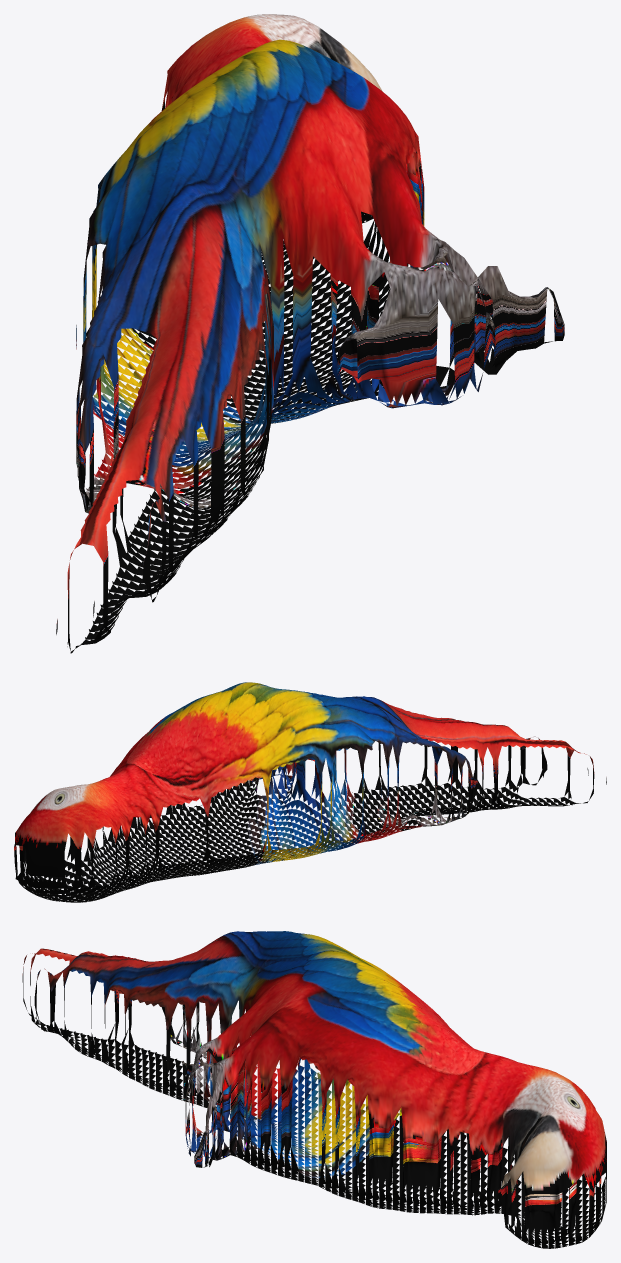
The model's file is macaw.glb.
The picture shows the model from 3 angles, top to bottom: view 1: azimuth 30°, elevation 25°; view 2: azimuth 150°, elevation 25°; view 3: azimuth 270°, elevation 25°; orthographic projection. The views are drawn at different scales.
Parts seen in each view (by area): view 1: macaw_obj; view 2: macaw_obj; view 3: macaw_obj.
Part boxes in pixels (x1,y1,x2,y2): macaw_obj: [56, 14, 564, 653]; macaw_obj: [14, 682, 606, 902]; macaw_obj: [22, 931, 606, 1248].
Size of the model in its own units: 1.67 by 0.786 by 1.83.
Materials: 1 (1 with a texture image).
